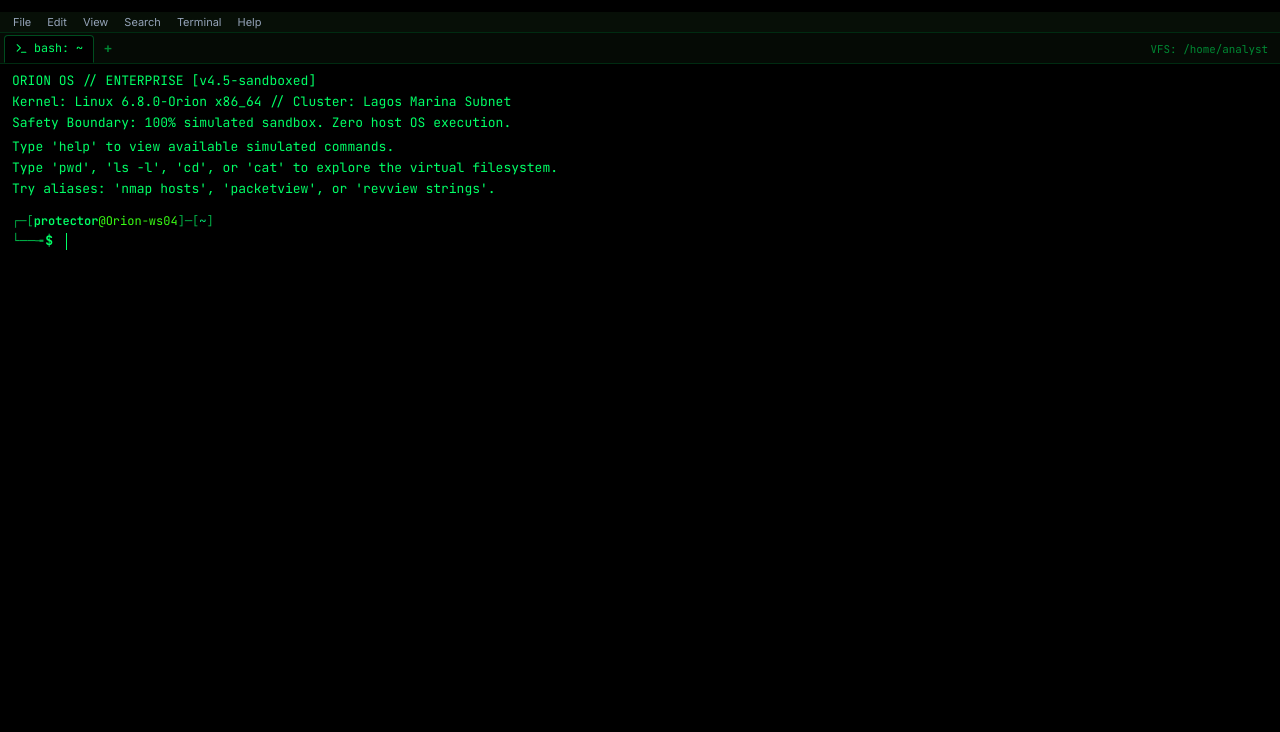
TerminalApp Component › executes netmap hosts and displays discovered subnet inventory
This screenshot has width=1280, height=732.
Type "netmap hosts" into the field with test id "terminal-command-input" at (667, 241), box [66, 231, 1268, 252]
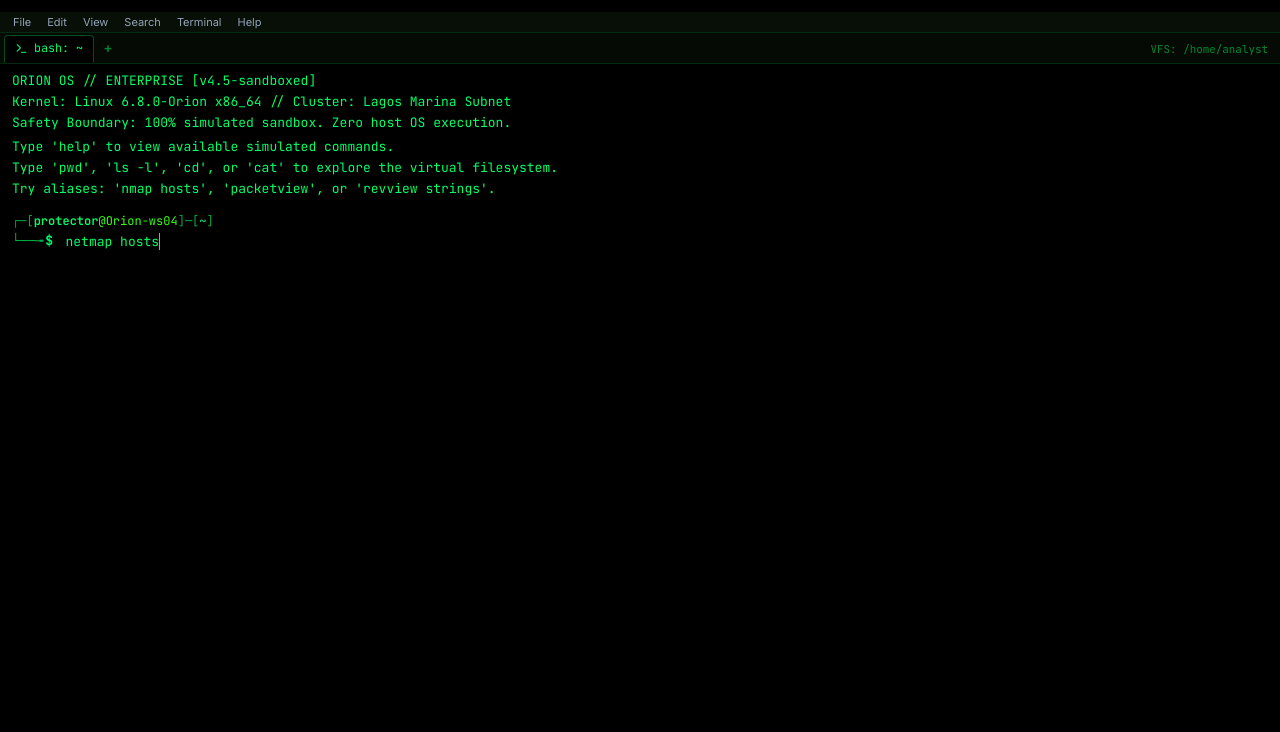
Press Enter in the field with test id "terminal-command-input", box [66, 231, 1268, 252]
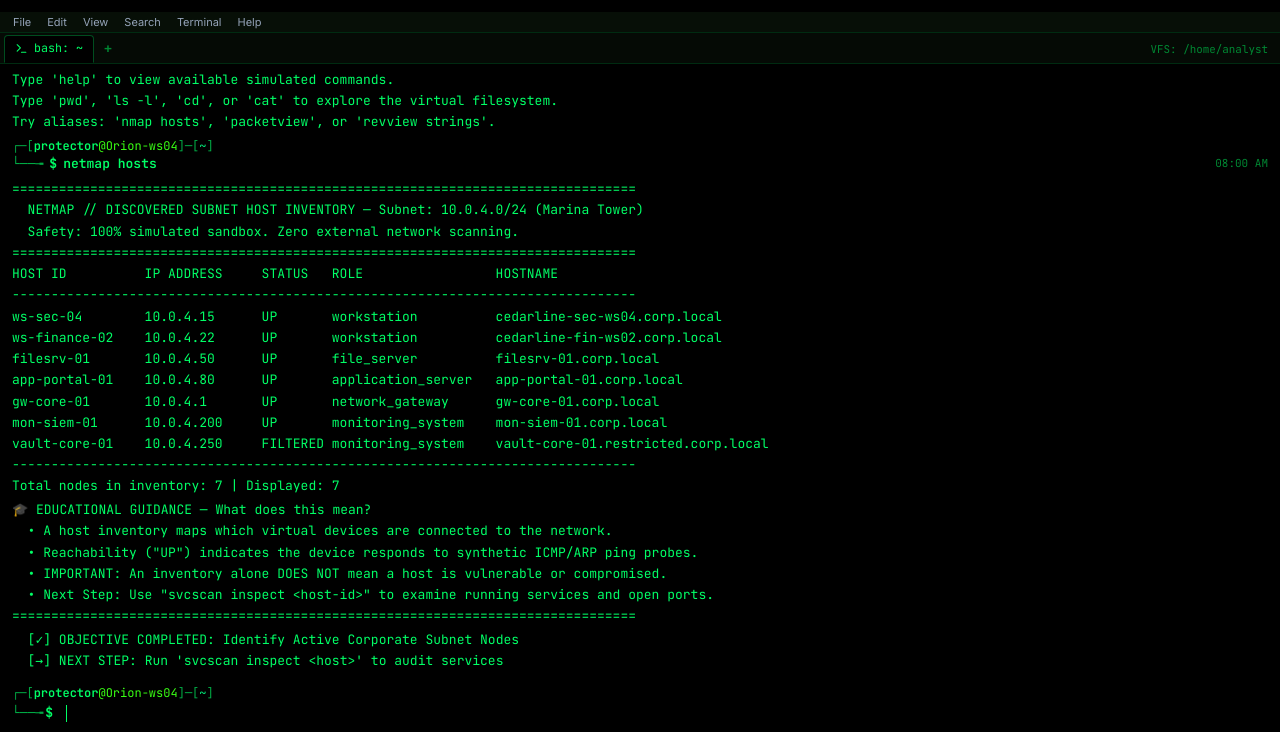
Expected: the text "DISCOVERED SUBNET HOST INVENTORY" is shown, [12, 201, 644, 218]
